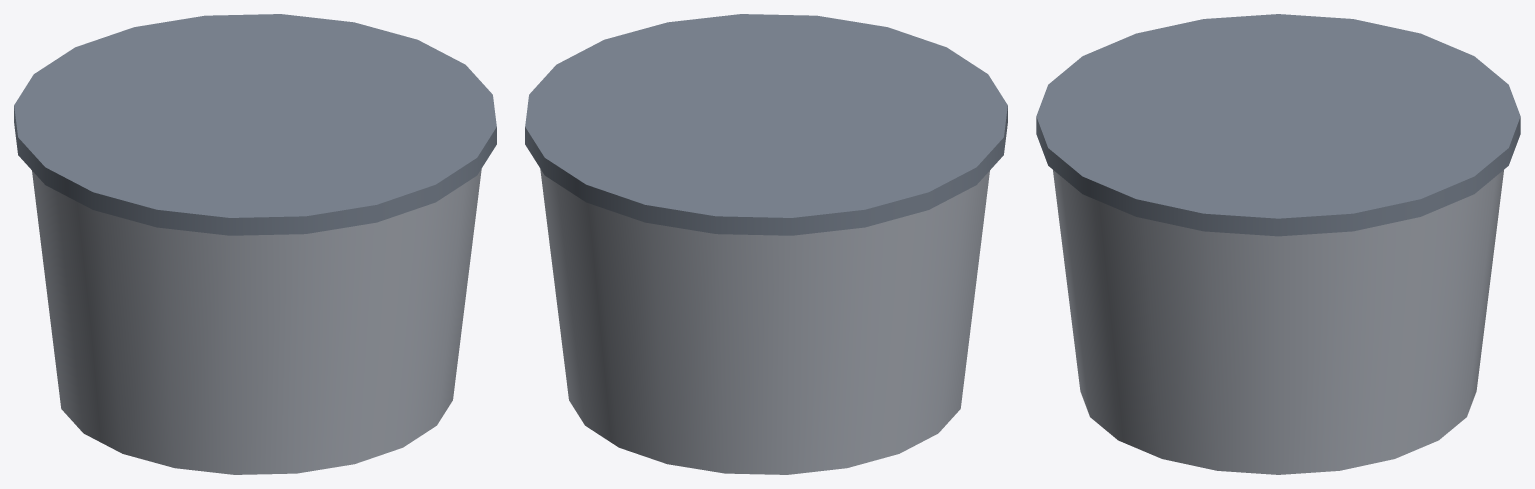
The model's file is hat_bucket.glb.
3 renders of one model, left to right at view 1: azimuth 30°, elevation 25°; view 2: azimuth 150°, elevation 25°; view 3: azimuth 270°, elevation 25°, orthographic.
Visible parts, largest first — view 1: hat_bucket; view 2: hat_bucket; view 3: hat_bucket.
Boxes of the visible parts, x1,y1,x2,y2 form: hat_bucket: (14, 14, 496, 474); hat_bucket: (525, 14, 1007, 474); hat_bucket: (1036, 14, 1520, 474).
Bounding box in the file's own units: 0.495 × 0.31 × 0.495.
